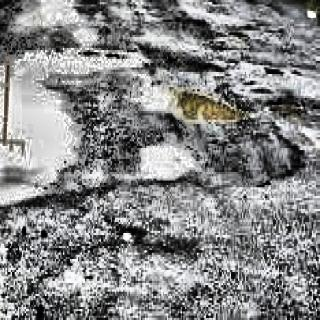pothole: (0, 44, 153, 209), (130, 73, 244, 126), (24, 0, 99, 47), (136, 145, 200, 189), (270, 99, 304, 118)
